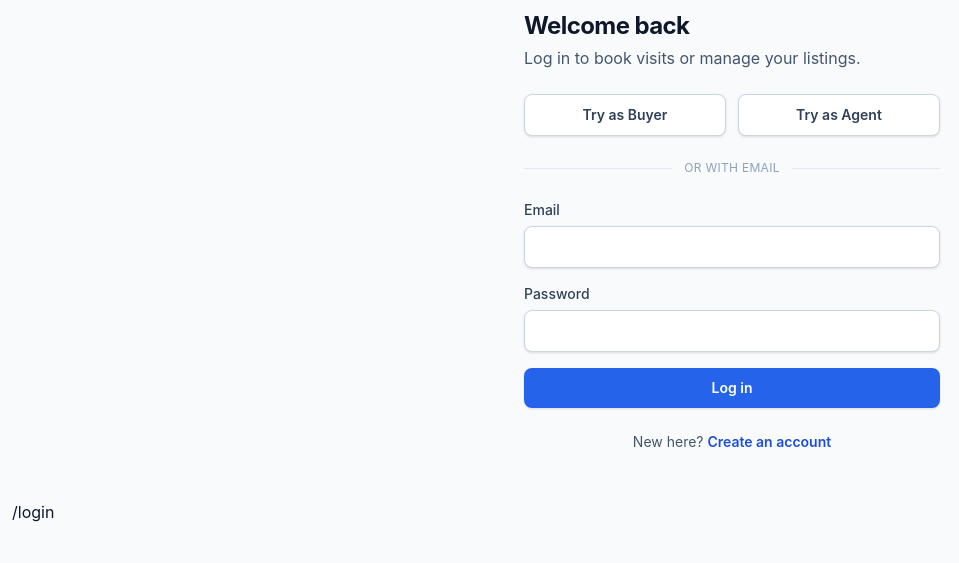
Test case: <LoginPage> › rejects a malformed email
Type "riya@" into the field labelled "Email".
click(732, 247); type("riya@")  # box [524,226,940,268]
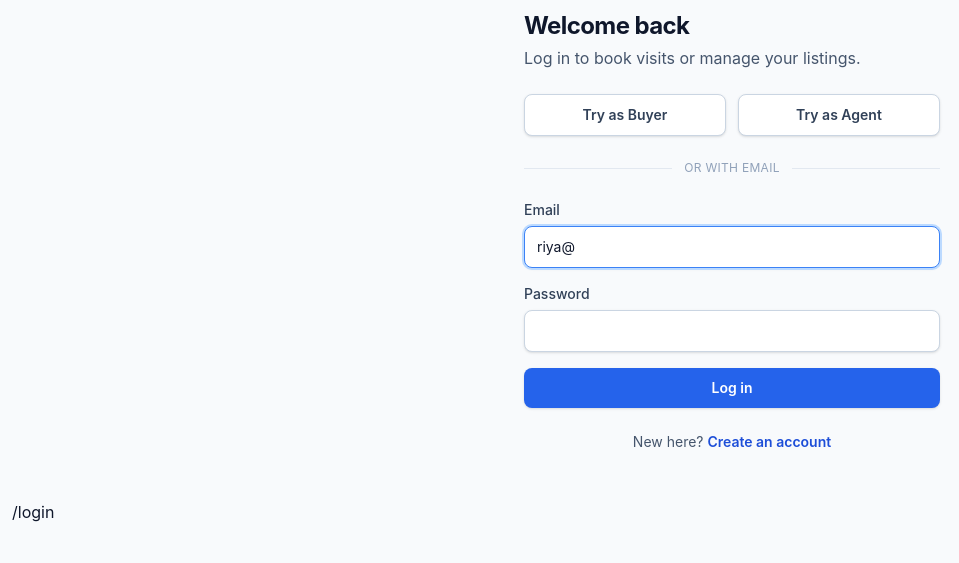
Type "whatever" into the password field labelled "Password".
click(732, 331); type("whatever")  # box [524,310,940,352]
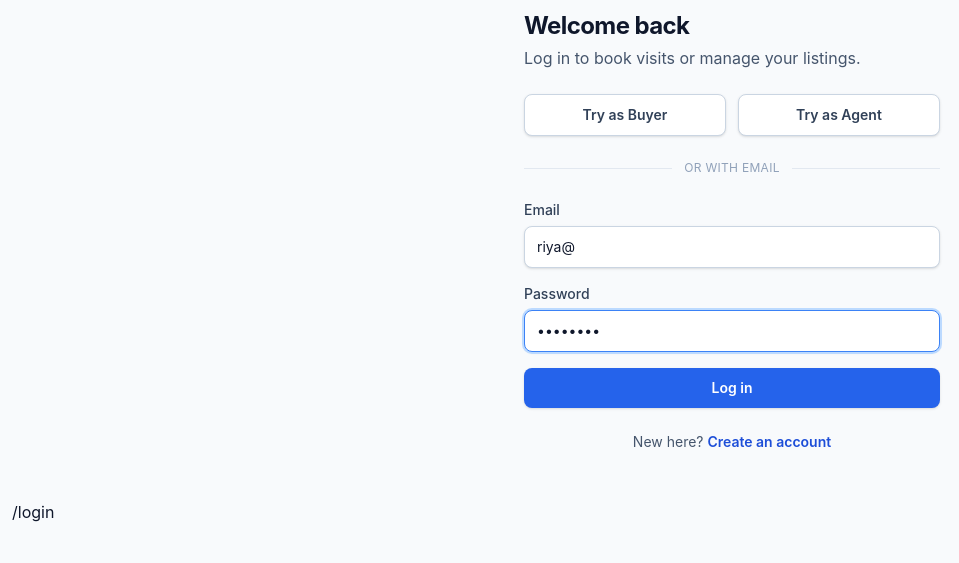
Click the button "Log in".
click(732, 388)  # box [524,368,940,408]
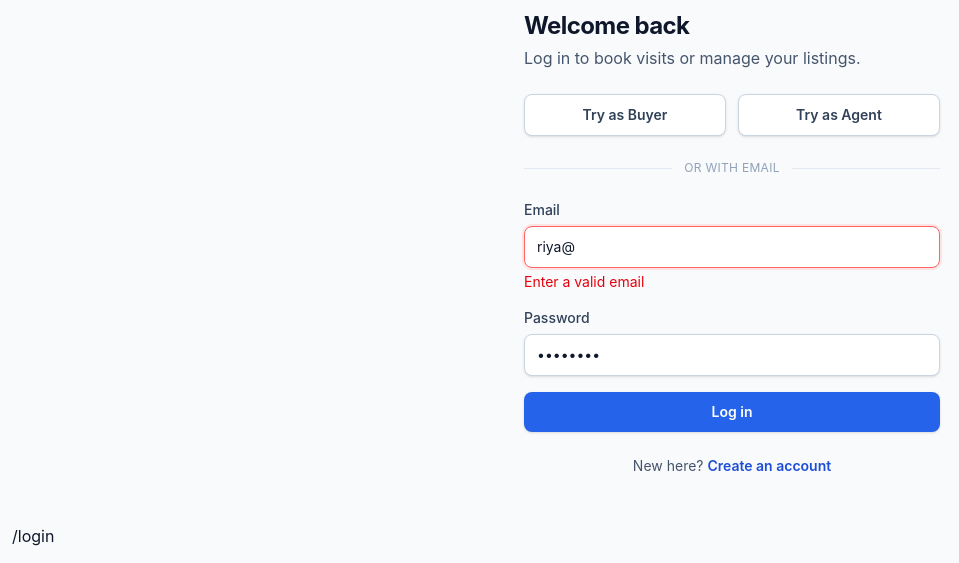
Now the text "Enter a valid email" is shown, box [524,273,644,290]
